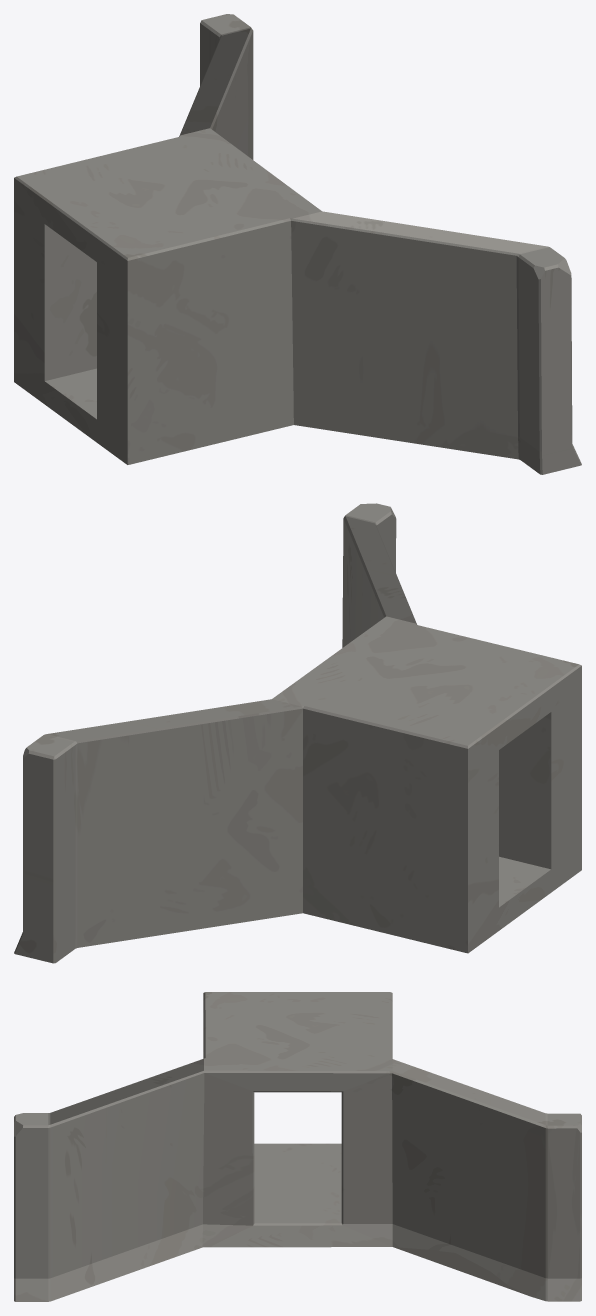
File: model_concrete_bunker_02.fbx
3 views of the same model, one above another, from view 1: azimuth 30°, elevation 25°; view 2: azimuth 150°, elevation 25°; view 3: azimuth 270°, elevation 25° (orthographic). The views are drawn at different scales.
Parts seen in each view (by area): view 1: model_concrete_bunker_02; view 2: model_concrete_bunker_02; view 3: model_concrete_bunker_02.
Part boxes in pixels (x1,y1,x2,y2): model_concrete_bunker_02: (14, 14, 581, 474); model_concrete_bunker_02: (14, 503, 581, 963); model_concrete_bunker_02: (14, 992, 581, 1301).
Bounding box in the file's own units: 520 × 300 × 900.
Materials: 1 (1 with a texture image).
